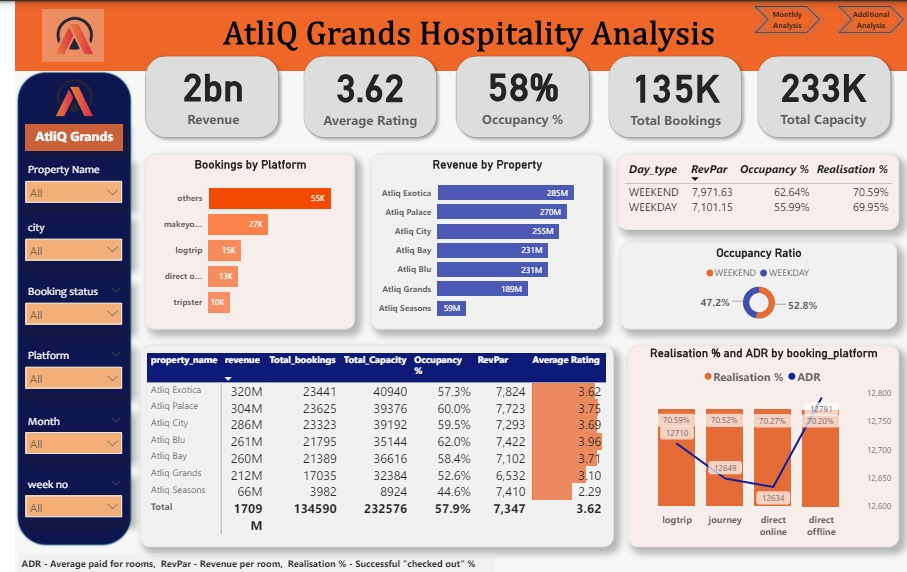

This screenshot's page, from the dashboard's own definition file:
{"tool":"powerbi","page":{"name":"Main Report","canvas":[1280,835],"ordinal":0},"visuals":[{"type":"pivotTable","fields":{"Rows":["dim_hotels.property_name"],"Values":["key_measure.revenue","key_measure.Total_bookings","key_measure.Total_Capacity","key_measure.Occupancy %","key_measure.RevPar","key_measure.Average Rating"]},"box":[178.5,495.4,678.5,289.2],"z":0},{"type":"donutChart","title":"Occupancy Ratio","fields":{"Y":["key_measure.Occupancy %"],"Category":["dim_date.day_type"]},"box":[866.2,346.2,396.9,126.2],"z":1000},{"type":"lineChart","fields":{"Y":["key_measure.RevPar","key_measure.Occupancy %"],"Y2":["key_measure.ADR"],"Category":["dim_date.week no"]},"box":[1398.2,340.4,361.4,87.7],"z":2000},{"type":"tableEx","fields":{"Values":["dim_date.day_type","key_measure.RevPar","key_measure.Occupancy %","key_measure.Realisation %"]},"box":[861.5,220,404.6,109.2],"z":3000},{"type":"shape","box":[0,100,169.2,684.6],"z":4000},{"type":"textbox","box":[0,0,1300,100],"z":5000},{"type":"image","title":"atliq","box":[38.5,101.5,87.7,75.4],"z":6000},{"type":"slicer","fields":{"Values":["dim_hotels.property_name"]},"box":[4.6,227.7,158.5,67.7],"z":7000},{"type":"slicer","fields":{"Values":["dim_hotels.city"]},"box":[4.6,310.8,158.5,69.2],"z":8000},{"type":"slicer","fields":{"Values":["fact_bookings.booking_status"]},"box":[4.6,403.1,158.5,69.2],"z":9000},{"type":"slicer","fields":{"Values":["fact_bookings.booking_platform"]},"box":[4.6,495.4,158.5,69.2],"z":10000},{"type":"slicer","fields":{"Values":["dim_date.week no"]},"box":[4.6,680,158.5,67.7],"z":11000},{"type":"slicer","fields":{"Values":["dim_date.mmm yy"]},"box":[4.6,589.2,158.5,67.7],"z":12000},{"type":"shape","box":[178.5,70.8,207.7,133.8],"z":13000},{"type":"card","fields":{"Values":["key_measure.revenue"]},"box":[207.5,76.1,152.2,109],"z":14000},{"type":"shape","box":[404.6,70.8,207.7,133.8],"z":15000},{"type":"card","fields":{"Values":["key_measure.Average Rating"]},"box":[424.6,66.2,167.7,130.8],"z":16000},{"type":"shape","box":[623.1,70.8,207.7,133.8],"z":17000},{"type":"card","fields":{"Values":["key_measure.Occupancy %"]},"box":[650.8,75.4,152.3,109.2],"z":18000},{"type":"shape","box":[841.5,70.8,207.7,133.8],"z":19000},{"type":"card","fields":{"Values":["key_measure.Total_bookings"]},"box":[866.2,72.3,160,120],"z":20000},{"type":"shape","box":[1055.4,70.8,207.7,133.8],"z":21000},{"type":"card","fields":{"Values":["key_measure.Total_Capacity"]},"box":[1075.4,76.9,164.6,107.7],"z":22000},{"type":"textbox","box":[15.4,176.9,138.5,38.5],"z":23000},{"type":"barChart","title":"Bookings by Platform","fields":{"Category":["fact_bookings.booking_platform"],"Y":["key_measure.Total_bookings"]},"box":[186.2,220,300,252.3],"z":24000},{"type":"barChart","title":"Revenue by Property","fields":{"Category":["dim_hotels.property_name"],"Y":["key_measure.revenue"]},"box":[509.2,220,332.3,252.3],"z":25000},{"type":"lineStackedColumnComboChart","fields":{"Category":["fact_bookings.booking_platform"],"Y":["key_measure.Realisation %"],"Y2":["key_measure.ADR"]},"box":[876.9,495.4,389.2,289.2],"z":26000},{"type":"image","title":"atliq","box":[38.5,12.3,87.7,75.4],"z":27000},{"type":"pageNavigator","box":[1051.4,0,229.2,54.2],"z":27001},{"type":"textbox","box":[4.2,794.4,681.9,30.6],"z":27002}]}

Visuals, with their boxes on the page's 1280x835 design canvas (x1, y1, x2, y2). These are canvas units, not pixel positions in the 907x572 screenshot, which may show the page scaled, cropped or inside an application window:
pivotTable - dim_hotels.property_name x key_measure.revenue: [178,495,857,785]
"Occupancy Ratio" donutChart: [866,346,1263,472]
lineChart - key_measure.RevPar x key_measure.Occupancy %: [1398,340,1760,428]
tableEx - dim_date.day_type x key_measure.RevPar: [862,220,1266,329]
shape: [0,100,169,785]
textbox: [0,0,1300,100]
"atliq" image: [38,102,126,177]
slicer - dim_hotels.property_name: [5,228,163,295]
slicer - dim_hotels.city: [5,311,163,380]
slicer - fact_bookings.booking_status: [5,403,163,472]
slicer - fact_bookings.booking_platform: [5,495,163,565]
slicer - dim_date.week no: [5,680,163,748]
slicer - dim_date.mmm yy: [5,589,163,657]
shape: [178,71,386,205]
card - key_measure.revenue: [208,76,360,185]
shape: [405,71,612,205]
card - key_measure.Average Rating: [425,66,592,197]
shape: [623,71,831,205]
card - key_measure.Occupancy %: [651,75,803,185]
shape: [842,71,1049,205]
card - key_measure.Total_bookings: [866,72,1026,192]
shape: [1055,71,1263,205]
card - key_measure.Total_Capacity: [1075,77,1240,185]
textbox: [15,177,154,215]
"Bookings by Platform" barChart: [186,220,486,472]
"Revenue by Property" barChart: [509,220,842,472]
lineStackedColumnComboChart - fact_bookings.booking_platform x key_measure.Realisation %: [877,495,1266,785]
"atliq" image: [38,12,126,88]
pageNavigator: [1051,0,1281,54]
textbox: [4,794,686,825]
